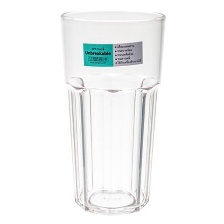glass: (52, 3, 169, 221)
